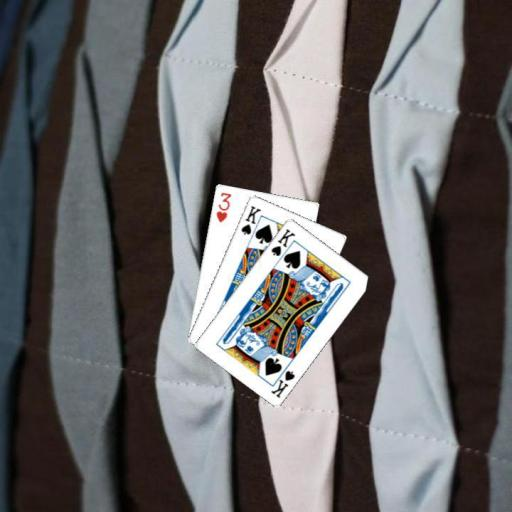3H: (213, 189, 233, 224)
KS: (268, 361, 297, 399), (268, 226, 297, 258), (238, 202, 263, 236)
